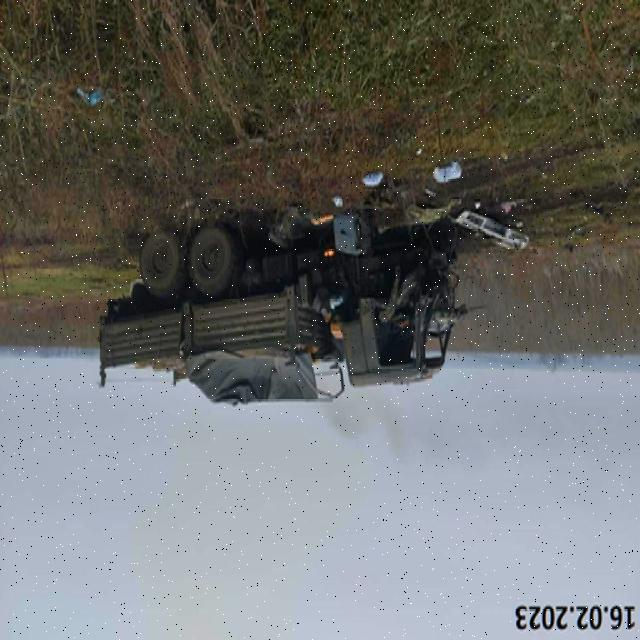TRUCK: (95, 202, 473, 422)
